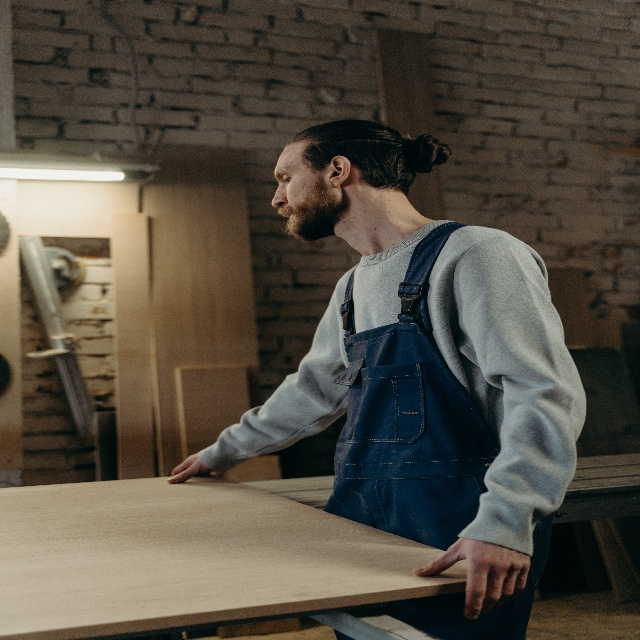Sin_guantes: (412, 538, 531, 621), (166, 452, 212, 484)
